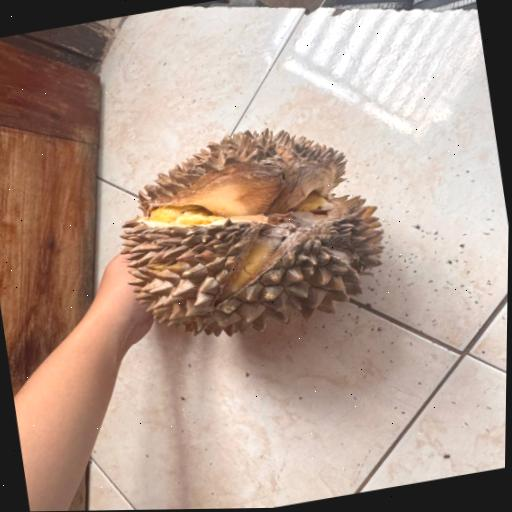rot: (68, 94, 424, 381)
